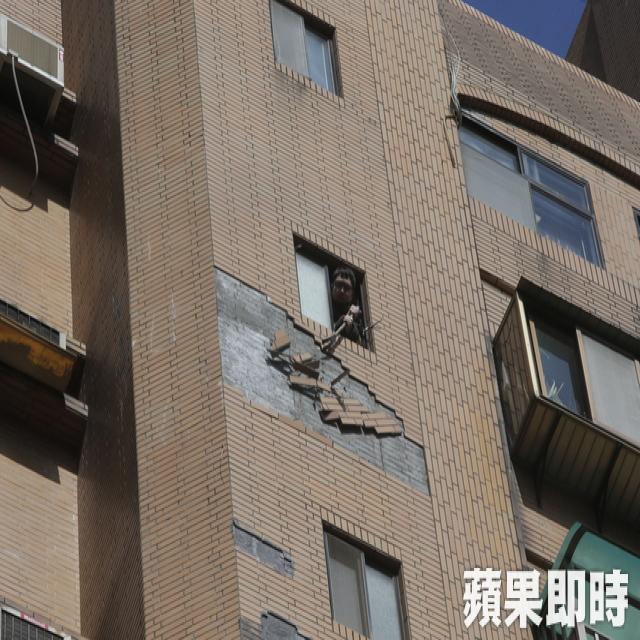tile: (213, 266, 431, 498), (232, 521, 292, 575), (261, 611, 309, 640)
